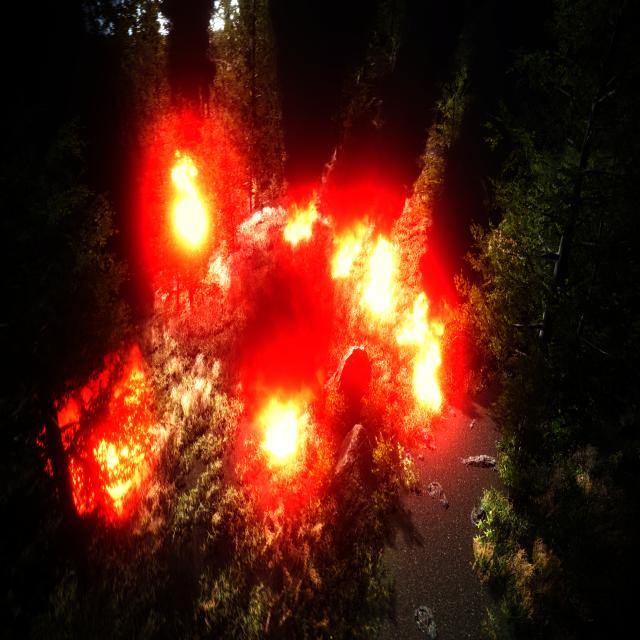Human: (341, 300, 349, 337)
